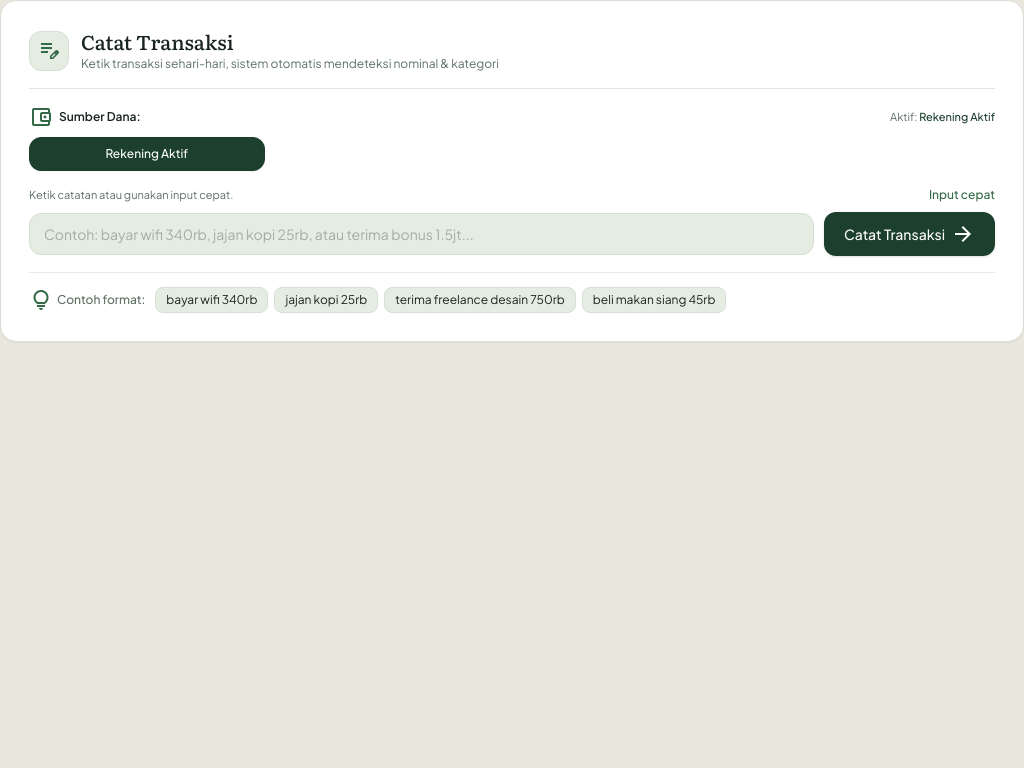
Test: CatatTransaksiSection save flow › uses the AI-selected category and passes the selected account as a hint
In the field with placeholder "Contoh: bayar wifi": (422, 234) [29,212,814,254], type "isi bensin 25rb"
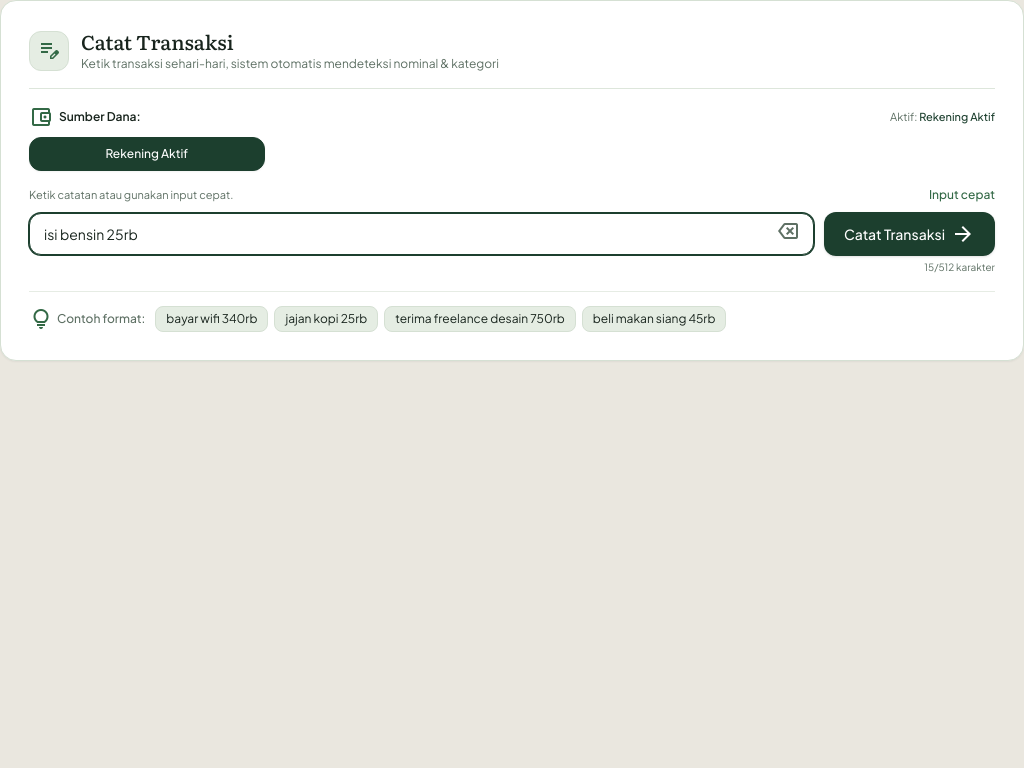
Click the button "Catat Transaksi": (910, 234) [824,212,995,256]
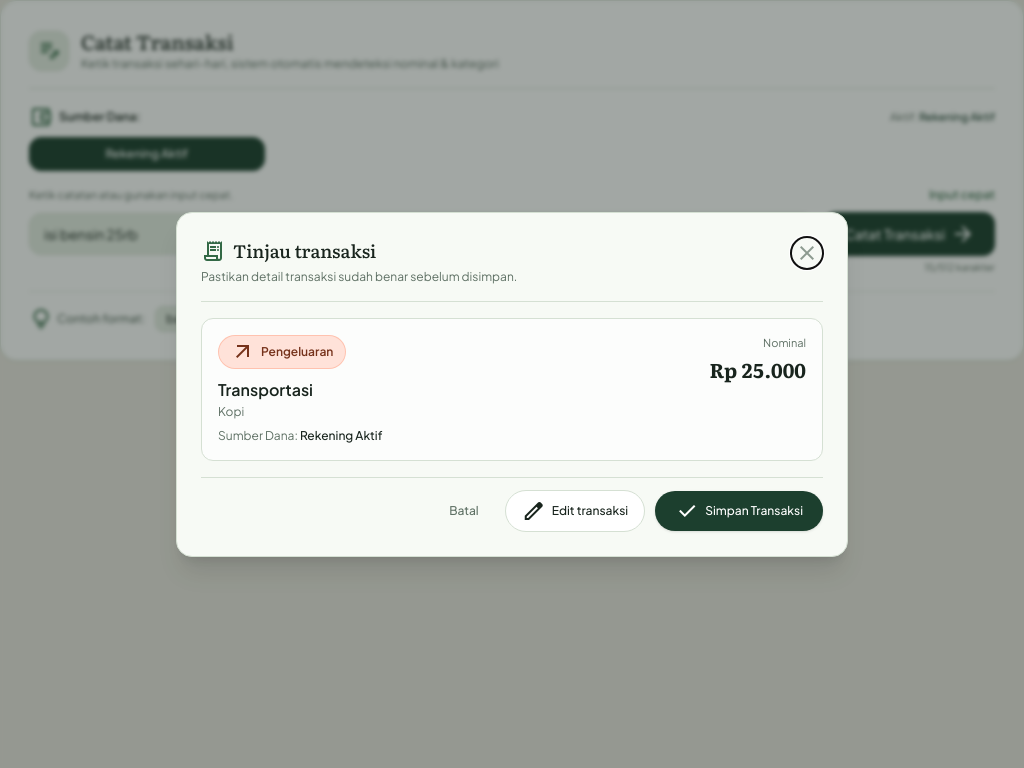
Check: the heading "Transportasi" is shown, box [218,378,313,400]
